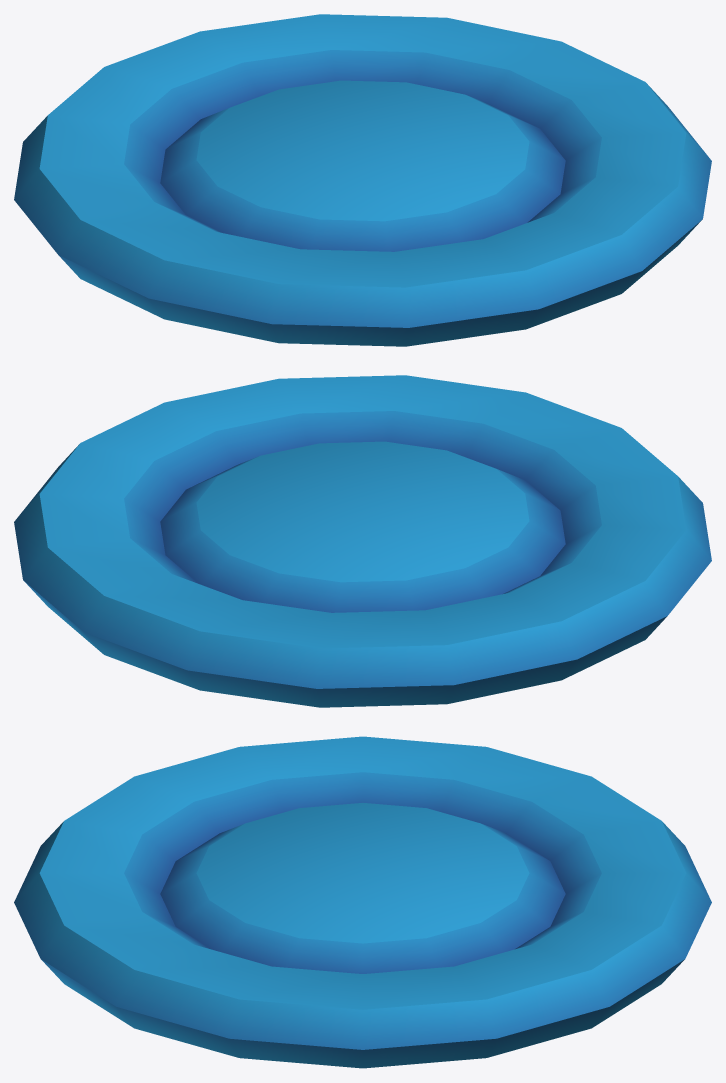
The model's file is token-blue.glb.
The picture shows the model from 3 angles, top to bottom: view 1: azimuth 30°, elevation 25°; view 2: azimuth 150°, elevation 25°; view 3: azimuth 270°, elevation 25°; orthographic projection.
Visible parts, largest first — view 1: token_blue; view 2: token_blue; view 3: token_blue.
Part boxes in pixels (<box>): token_blue: <box>14,14,711,346</box>; token_blue: <box>14,375,711,707</box>; token_blue: <box>14,736,711,1068</box>.
Bounding box in the file's own units: 1.08 × 0.1 × 1.08.
1 material, 1 textured.
